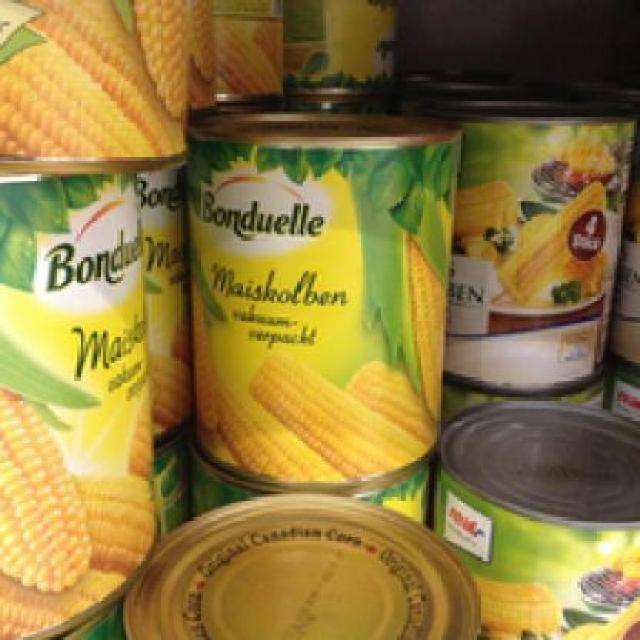Corn: (177, 114, 463, 494), (0, 160, 157, 634), (446, 89, 632, 398), (434, 396, 637, 630)
